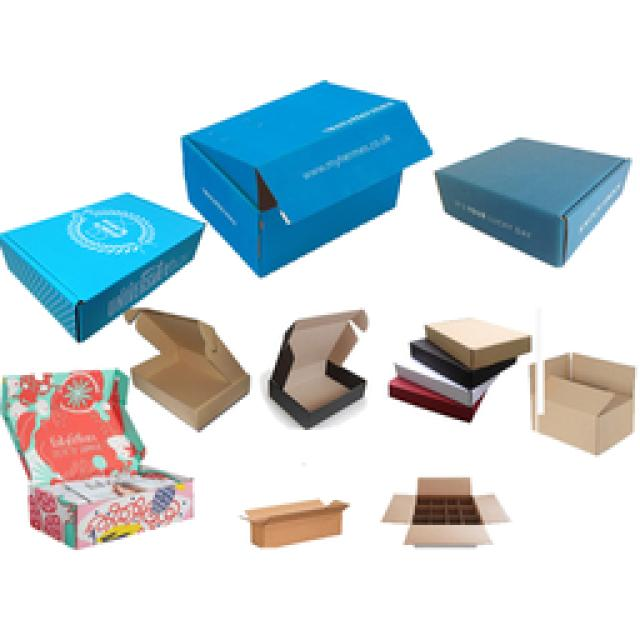cardboard: (0, 195, 248, 428), (182, 82, 430, 276), (435, 140, 628, 265), (392, 320, 530, 420), (268, 310, 365, 428), (532, 352, 632, 452), (382, 478, 508, 542), (245, 500, 348, 545)
